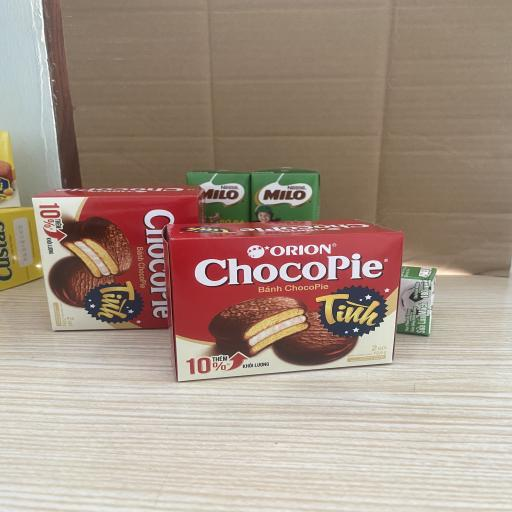chocopie: (163, 218, 405, 380), (32, 186, 204, 331)
milo: (250, 168, 320, 222), (187, 170, 250, 223), (396, 266, 437, 336)
